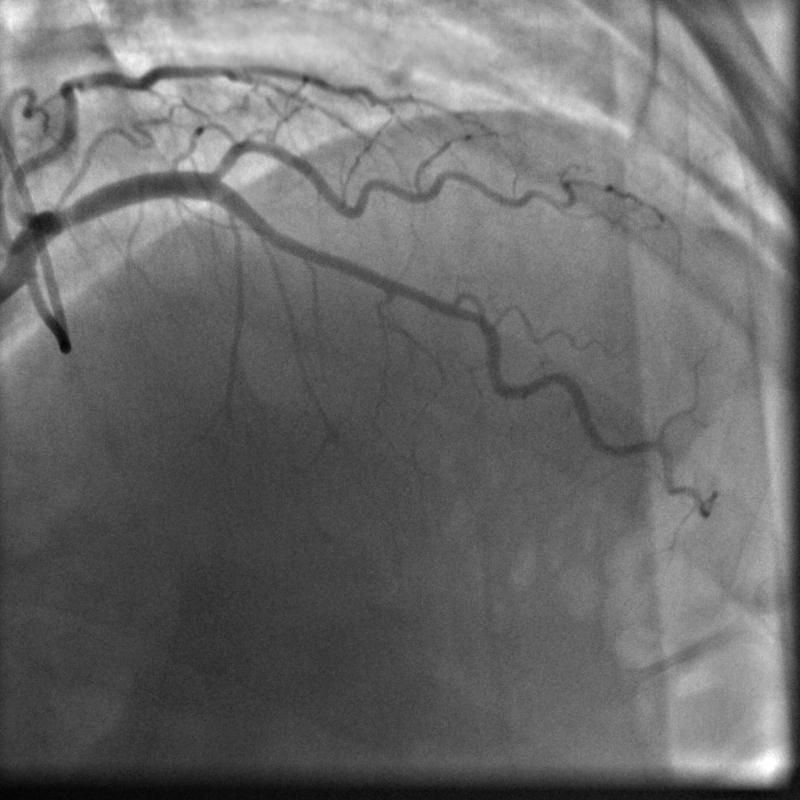Stenosis: (411, 284, 484, 329)
